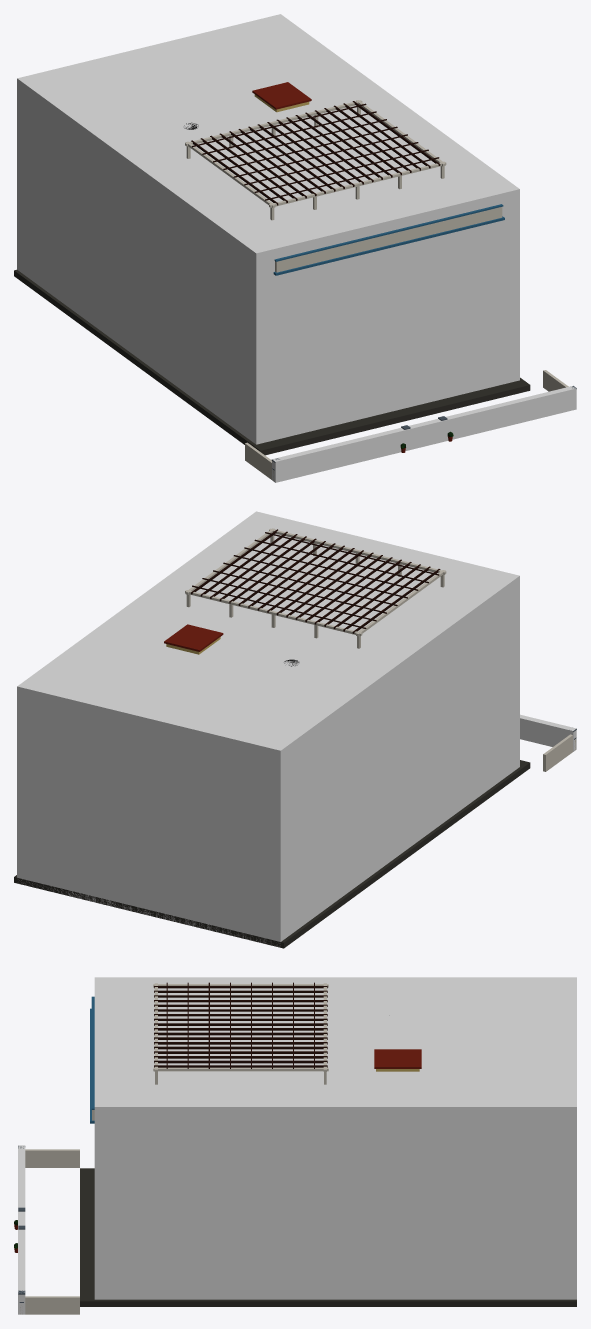
Rendered from B45_beach_apartment.glb.
3 views of the same model, one above another, from view 1: azimuth 30°, elevation 25°; view 2: azimuth 150°, elevation 25°; view 3: azimuth 270°, elevation 25° (orthographic).
Parts seen in each view (by area): view 1: COL_Main, LOD0, COL_Compound; view 2: COL_Main, LOD0, COL_Compound; view 3: COL_Main, LOD0, COL_Compound.
Part boxes in pixels (x1=…): COL_Main: x1=17, y1=14, x2=519, y2=444; LOD0: x1=14, y1=82, x2=576, y2=480; COL_Compound: x1=272, y1=386, x2=576, y2=482; COL_Main: x1=17, y1=511, x2=519, y2=947; LOD0: x1=14, y1=528, x2=576, y2=948; COL_Compound: x1=520, y1=714, x2=576, y2=751; COL_Main: x1=94, y1=977, x2=576, y2=1299; LOD0: x1=14, y1=982, x2=576, y2=1314; COL_Compound: x1=18, y1=1145, x2=25, y2=1314.
Size of what is drawn, in the model's own units: 24.04 by 16.25 by 38.53.
